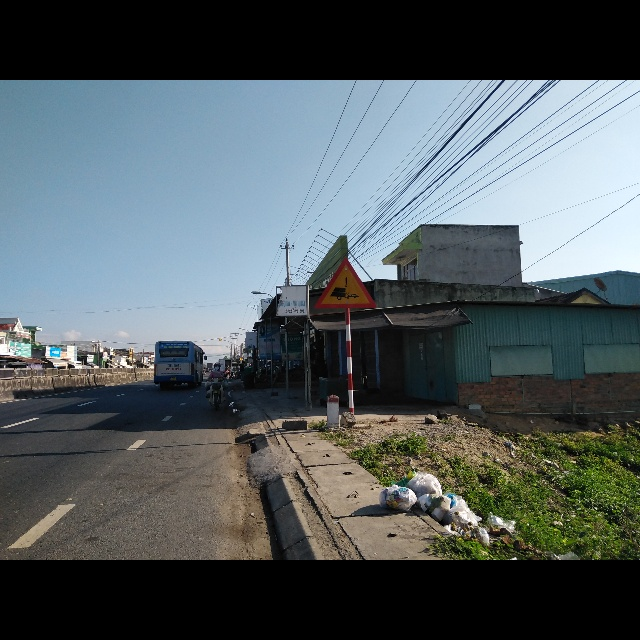Đoạn đường hay xảy ra tai nạn: (313, 255, 381, 310)
